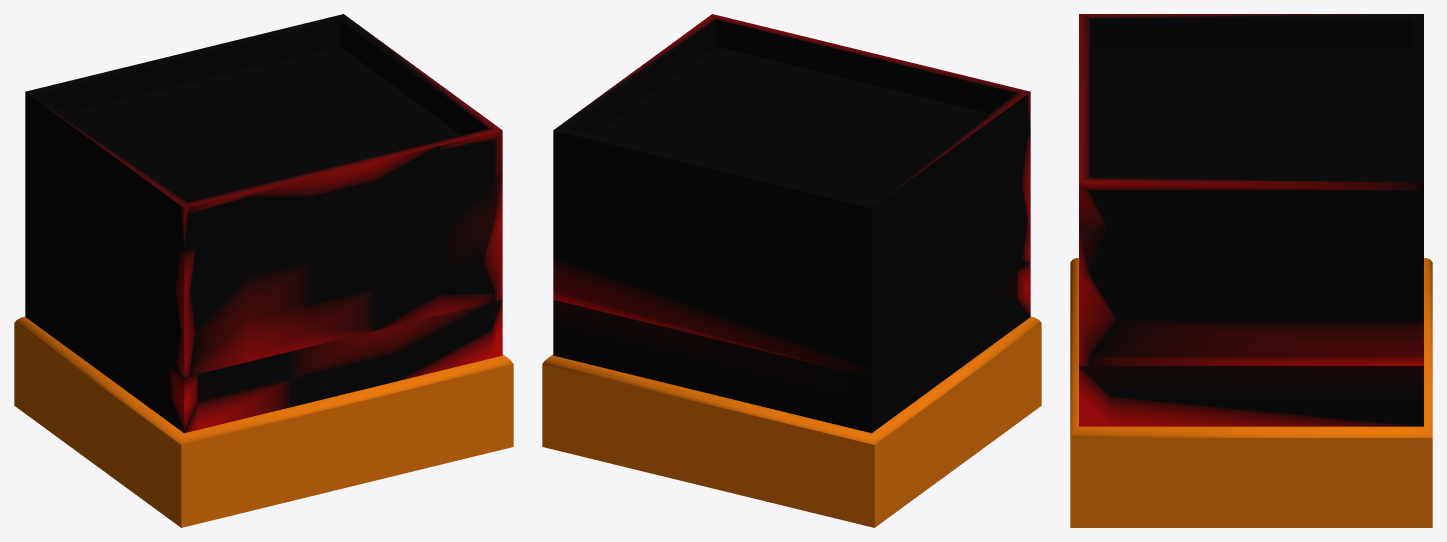
The model's file is House10_collisionSetup.fbx.
3 renders of one model, left to right at view 1: azimuth 30°, elevation 25°; view 2: azimuth 150°, elevation 25°; view 3: azimuth 270°, elevation 25°, orthographic. The views are drawn at different scales.
Parts seen in each view (by area): view 1: collisionCube.016, collisionConvex.202; view 2: collisionCube.016, collisionConvex.202; view 3: collisionCube.016, collisionConvex.202.
Boxes of the visible parts, x1,y1,x2,y2 form: collisionCube.016: (25, 14, 502, 433); collisionConvex.202: (14, 316, 513, 527); collisionCube.016: (553, 14, 1030, 433); collisionConvex.202: (542, 316, 1041, 527); collisionCube.016: (1079, 14, 1423, 426); collisionConvex.202: (1070, 258, 1432, 527).
Bounding box in the file's own units: 965 × 875 × 840.
